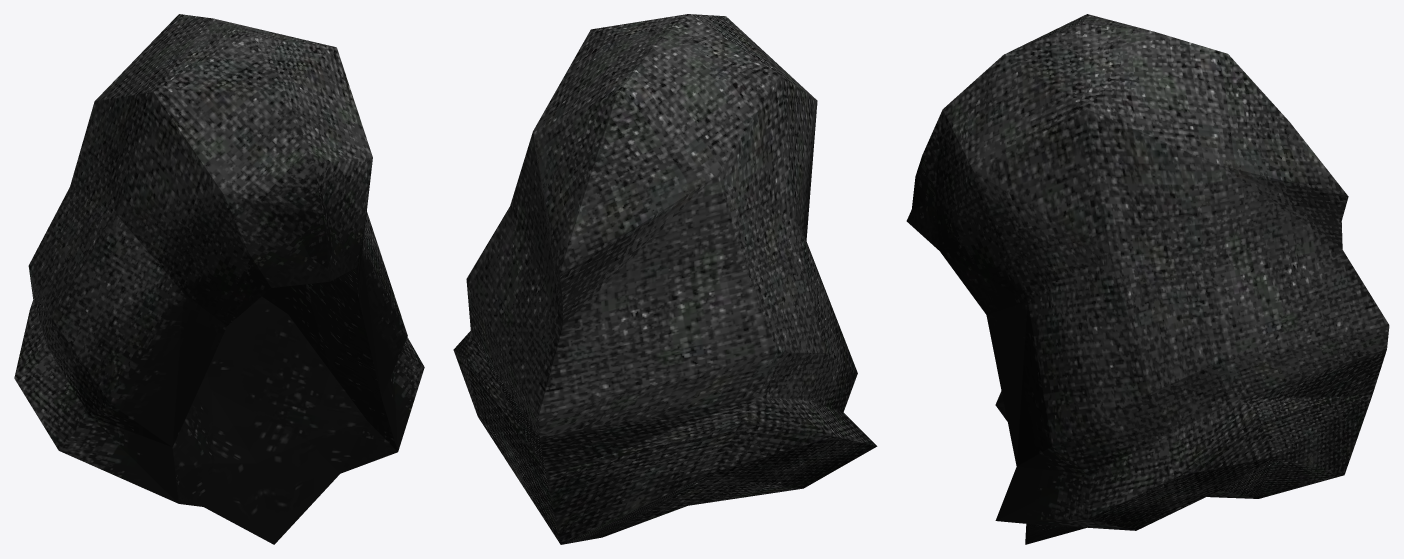
Rendered from HUM_HELM_2CZAR.glb.
3 views of the same model, side by side, from view 1: azimuth 30°, elevation 25°; view 2: azimuth 150°, elevation 25°; view 3: azimuth 270°, elevation 25° (orthographic). The views are drawn at different scales.
Visible parts, largest first — view 1: HUM_HELM_2CZAR; view 2: HUM_HELM_2CZAR; view 3: HUM_HELM_2CZAR.
Part boxes in pixels (x1,y1,x2,y2): HUM_HELM_2CZAR: (14, 14, 424, 544); HUM_HELM_2CZAR: (453, 14, 877, 544); HUM_HELM_2CZAR: (906, 14, 1389, 544).
Size of the model in its own units: 0.3241 by 0.4106 by 0.345.
Materials: 1 (1 with a texture image).
